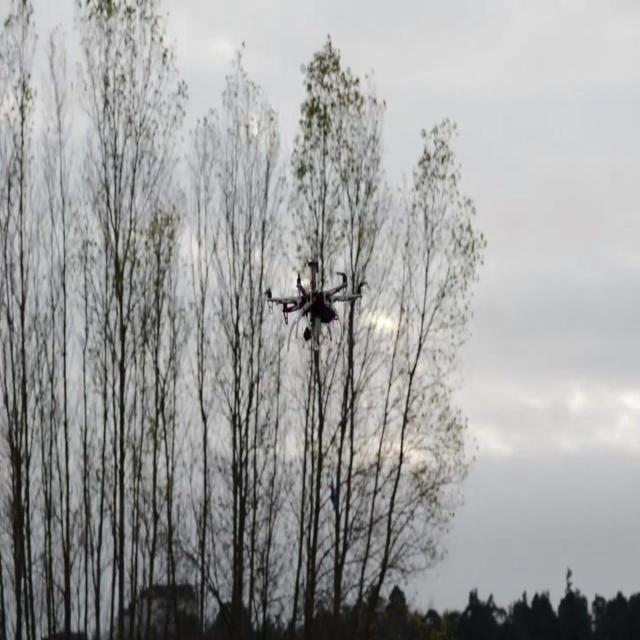UAV: (264, 262, 368, 348)
